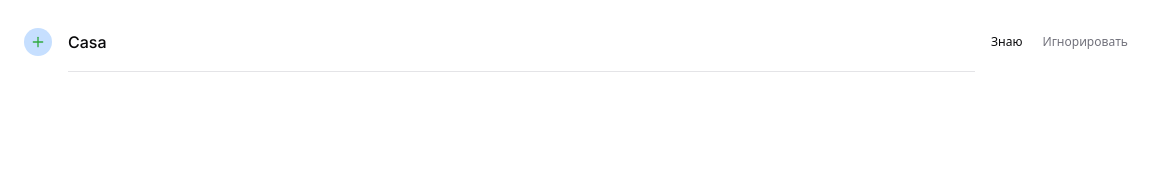
it: retains a new word and reports a failed write
This screenshot has width=1152, height=172.
Click the button named "Добавить Casa в изучение" at (38, 42), box [16,20,60,64]
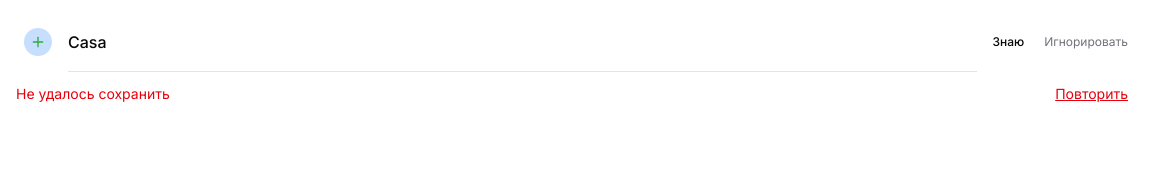
Expected: the button with aria-label "Открыть карточку Casa" is shown, [68,12,976,72]
Expected: the message shows "Не удалось сохранить", [16,85,170,102]
Expected: the button "Повторить" is enabled, [1047,80,1136,108]
